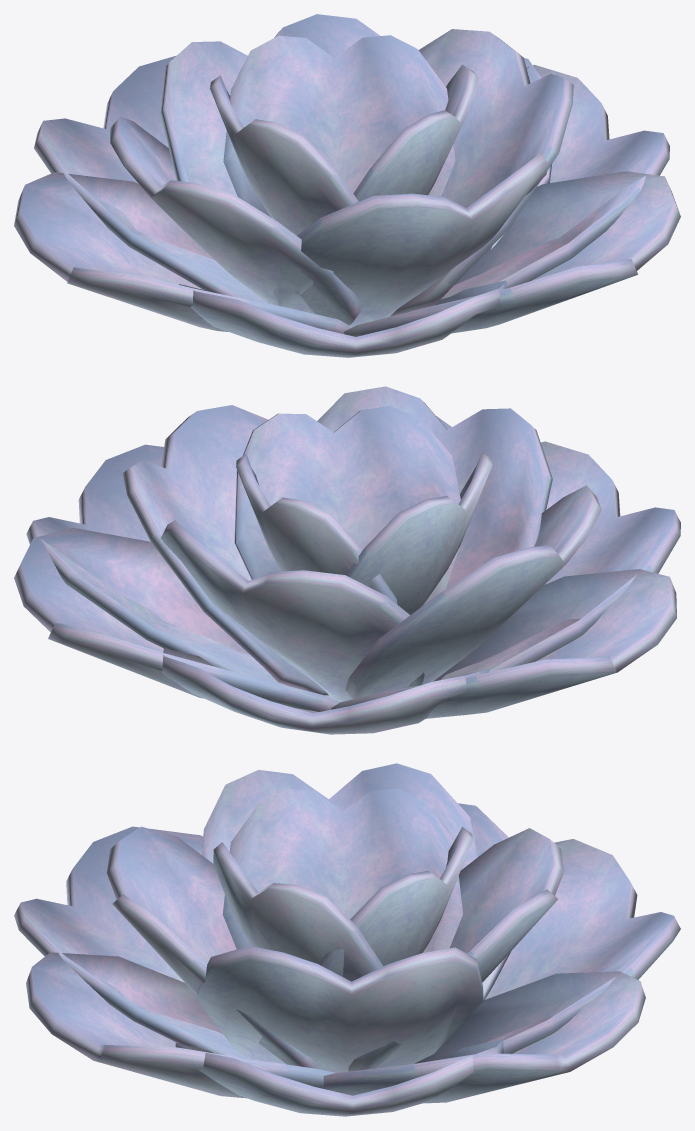
The model's file is sizukuSpecial.obj.
3 renders of one model, top to bottom at view 1: azimuth 30°, elevation 25°; view 2: azimuth 150°, elevation 25°; view 3: azimuth 270°, elevation 25°, orthographic.
Visible parts, largest first — view 1: Cube.007; view 2: Cube.007; view 3: Cube.007.
Part boxes in pixels (box(x1,y1,x2,y2)): Cube.007: box(14, 14, 680, 357); Cube.007: box(14, 386, 680, 734); Cube.007: box(14, 763, 680, 1116).
Size of the model in its own units: 1.94 by 0.8434 by 1.93.
Materials: 1 (1 with a texture image).
